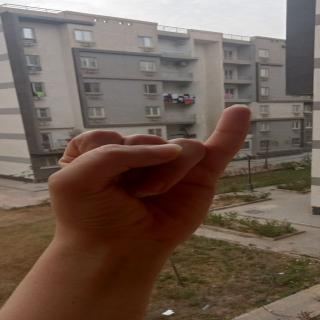MEEM: (39, 100, 267, 247)
